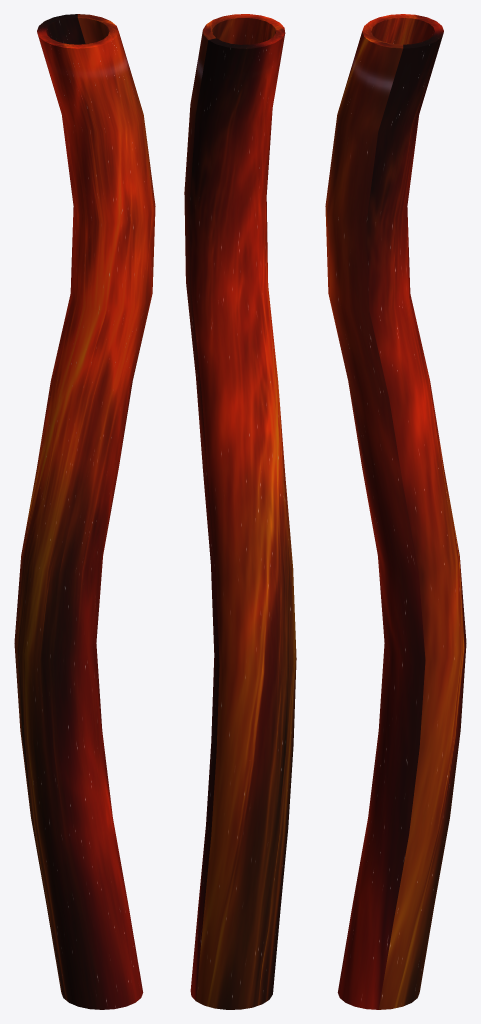
3 views of the same model, side by side, from view 1: azimuth 90°, elevation 25°; view 2: azimuth 210°, elevation 25°; view 3: azimuth 270°, elevation 25° (orthographic).
Parts seen in each view (by area): view 1: pPipe1; view 2: pPipe1; view 3: pPipe1.
Boxes of the visible parts, x1=… form: pPipe1: x1=14, y1=14, x2=155, y2=1009; pPipe1: x1=184, y1=14, x2=296, y2=1009; pPipe1: x1=325, y1=14, x2=466, y2=1009.
Bounding box in the file's own units: 4.45 × 57.6 × 7.66.
Materials: 1 (1 with a texture image).
